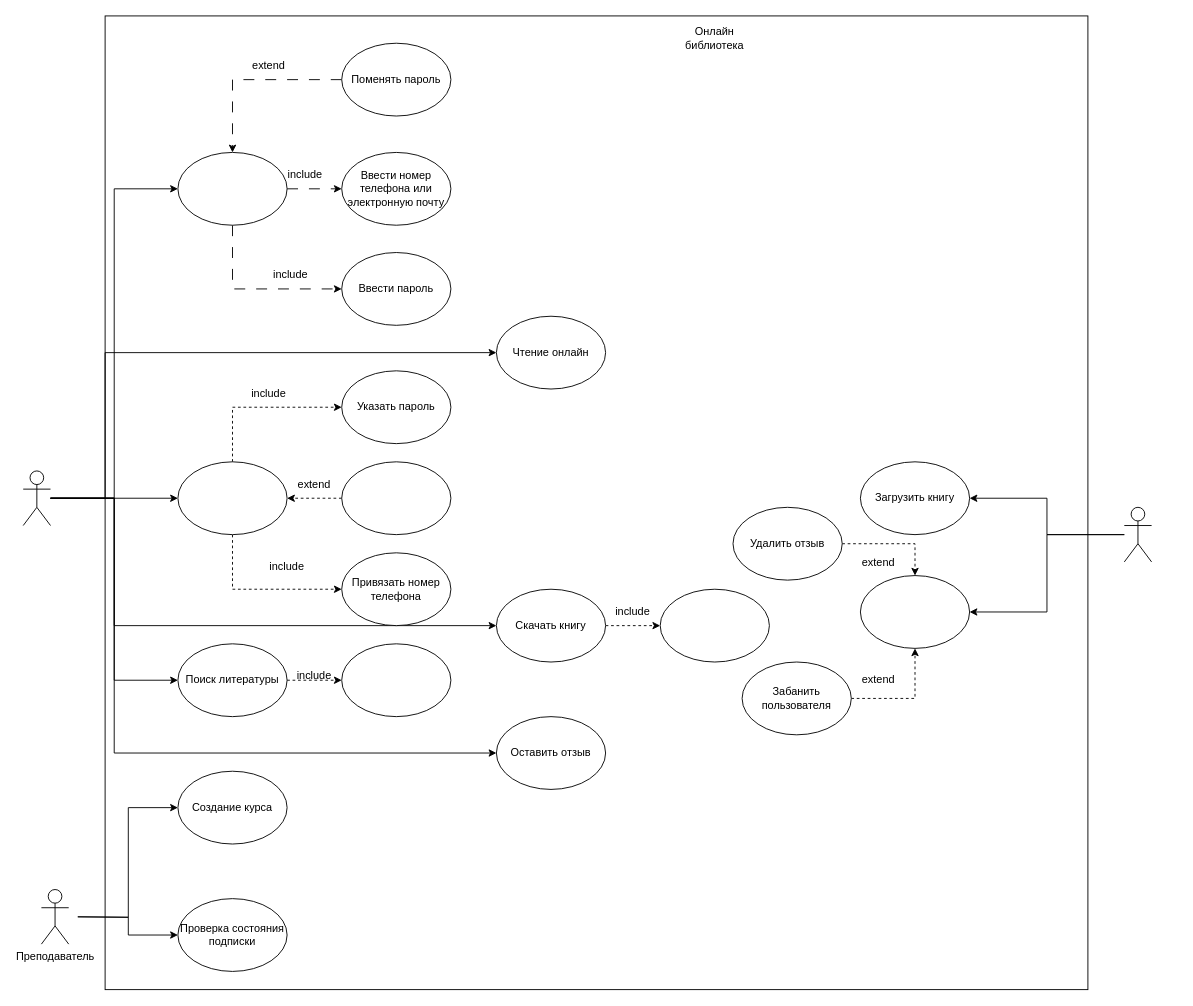
This 1193x1006 diagram has some shape labels left out. The shapes that lost their labels are listed below. From the top down, each one's centre as x and y in pixels, then its label:
the point at 232,188: Войти в систему
the point at 36,498: Ученик
the point at 232,498: Регистрация
the point at 396,498: Привязать электронную почту
the point at 1137,534: Администратор
the point at 714,625: Выбрать формат
the point at 914,611: Модерация
the point at 396,680: Указать автора либо название книги
